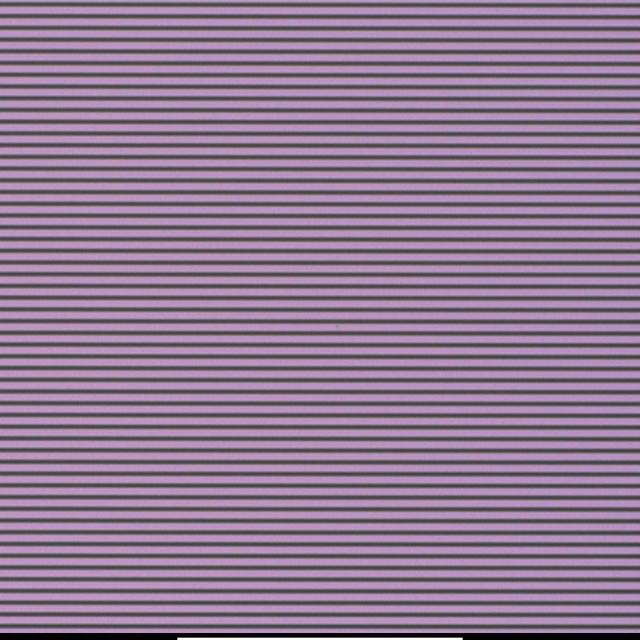nonvisual: (334, 322, 342, 329)
